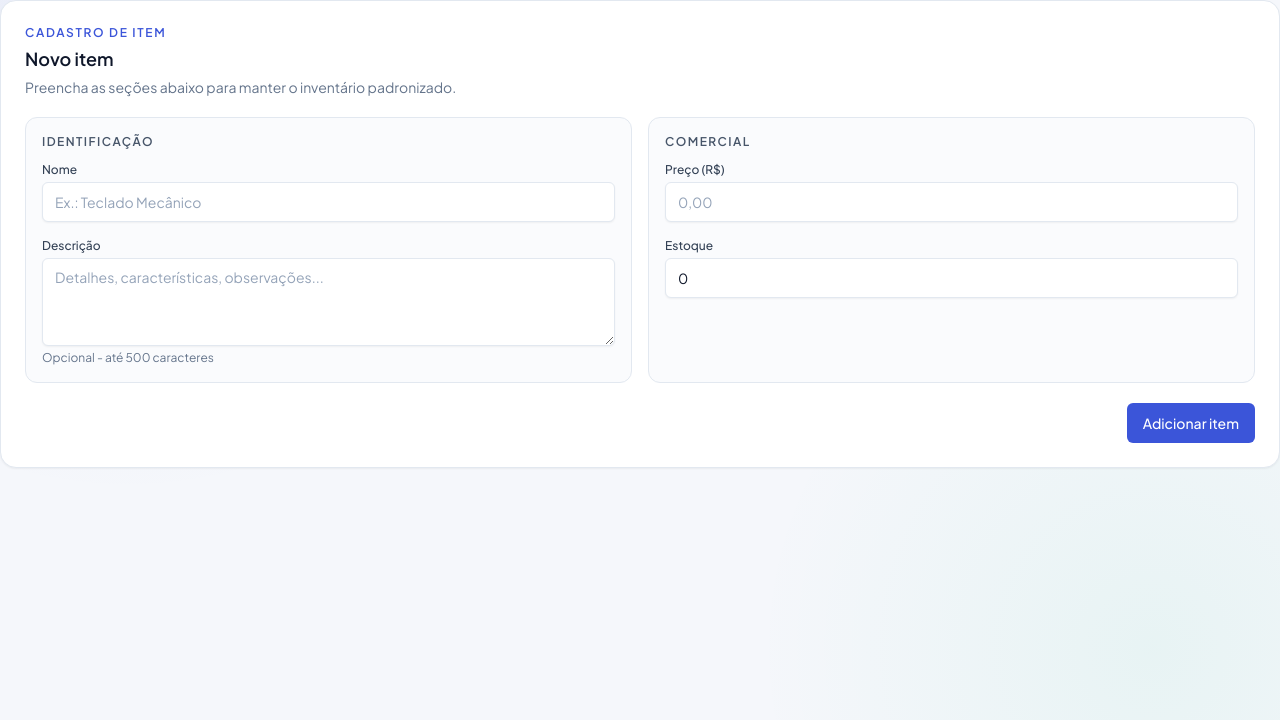
Test: ItemForm › valida campos antes de submeter
Click the button "Adicionar item". click: (1191, 423)
box: [1127, 403, 1255, 443]
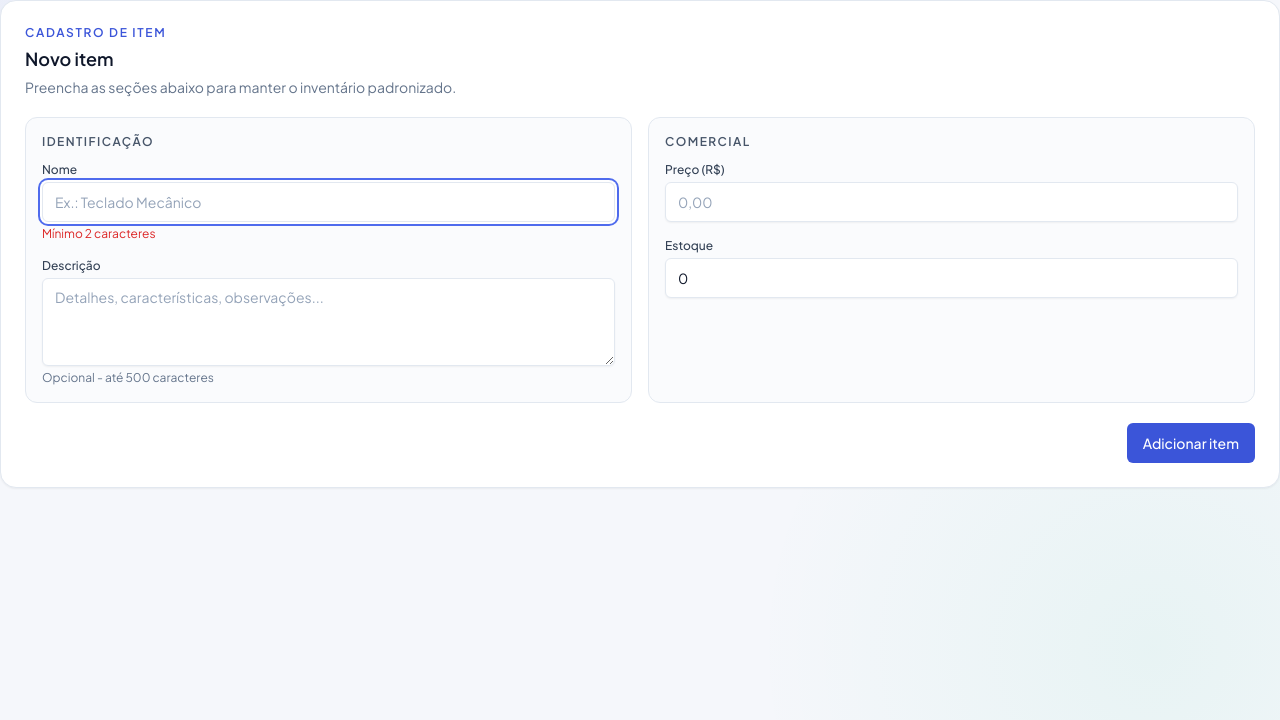
Check: the text "Mínimo 2 caracteres" is shown, box [42, 226, 156, 241]
